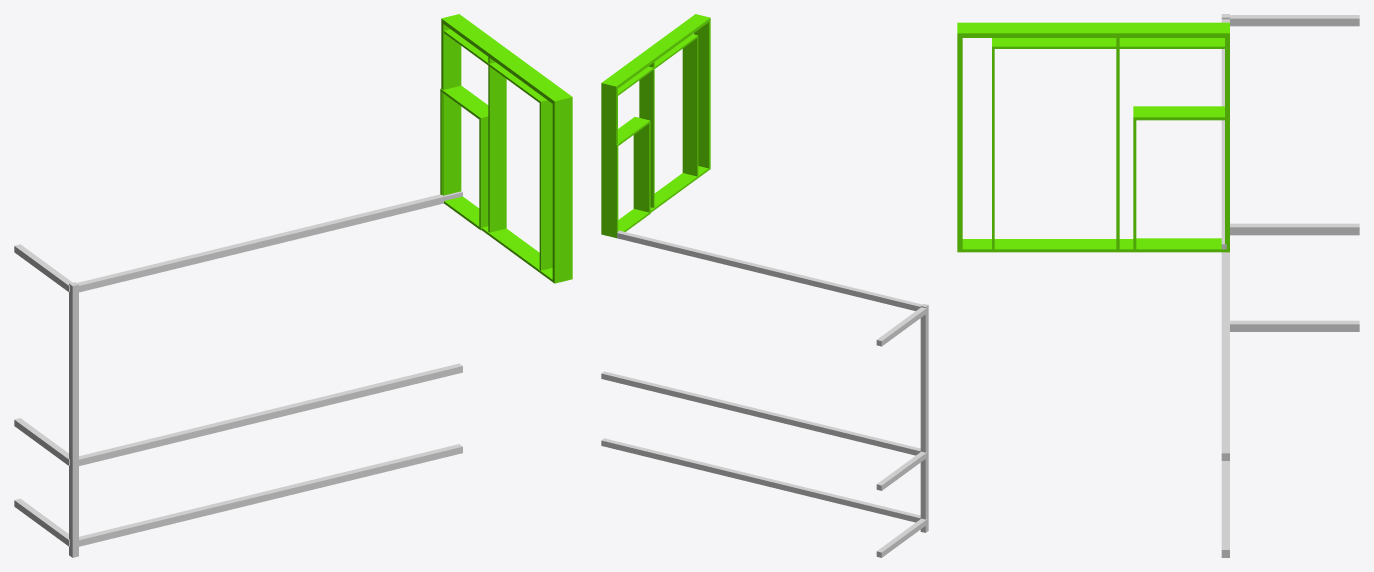
The model's file is SM_rans.fbx.
3 renders of one model, left to right at view 1: azimuth 30°, elevation 25°; view 2: azimuth 150°, elevation 25°; view 3: azimuth 270°, elevation 25°, orthographic. The views are drawn at different scales.
Parts seen in each view (by area): view 1: Cube.019, wall.011, wall.008, wall.010, Cube.081; view 2: Cube.019, wall.010, wall.011, Cube.081, wall.008; view 3: Cube.019, wall.011, wall.010, Cube.081, wall.008.
Part boxes in pixels (x1,y1,x2,y2): Cube.019: (14, 191, 462, 557); wall.011: (441, 18, 572, 283); wall.008: (442, 14, 506, 232); wall.010: (444, 29, 552, 270); Cube.081: (440, 85, 488, 230); Cube.019: (601, 230, 928, 557); wall.010: (601, 34, 698, 237); wall.011: (615, 14, 710, 212); Cube.081: (616, 117, 650, 238); wall.008: (601, 54, 654, 207); Cube.019: (1221, 14, 1359, 557); wall.011: (957, 22, 1229, 252); wall.010: (992, 38, 1229, 252); Cube.081: (1133, 106, 1227, 249); wall.008: (1116, 23, 1229, 249).
Size of the model in its own units: 520 by 566 by 385.
